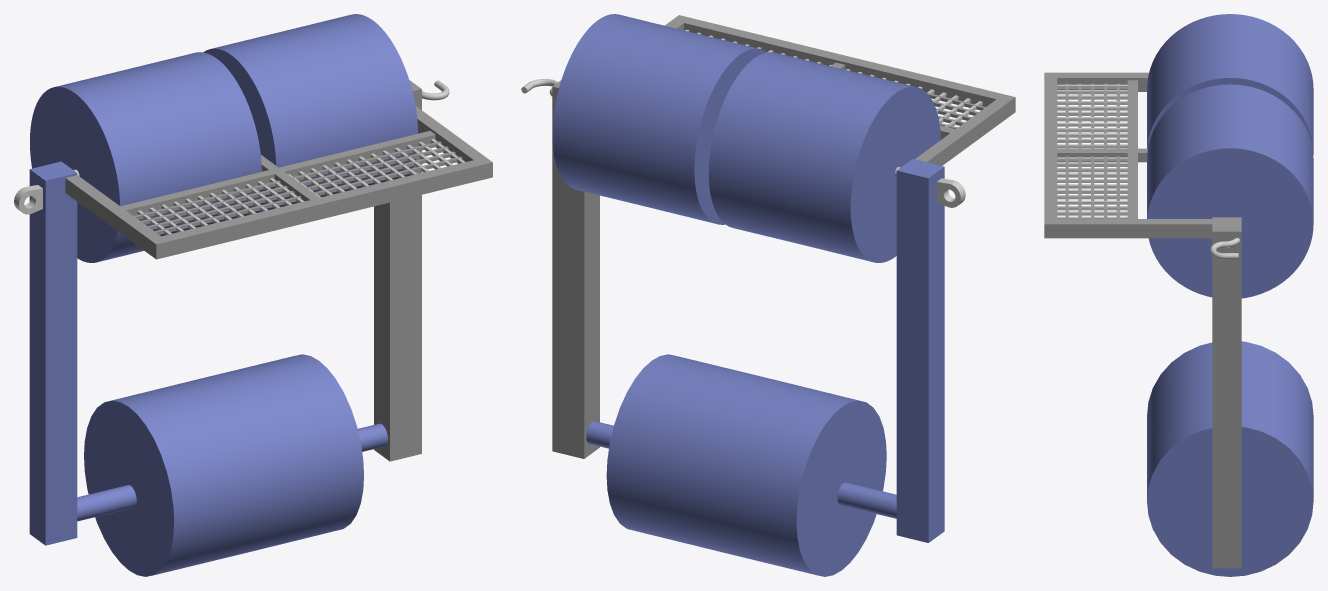
Rendered from Prohibitor.gltf.
The picture shows the model from 3 angles, left to right: view 1: azimuth 30°, elevation 25°; view 2: azimuth 150°, elevation 25°; view 3: azimuth 270°, elevation 25°; orthographic projection. The views are drawn at different scales.
Parts seen in each view (by area): view 1: Body40, Body34, Body35, Body1, Body37, Body41; view 2: Body40, Body34, Body35, Body37, Body1, Body41; view 3: Body40, Body35, Body34, Body1, Body37, Body42.
Part boxes in pixels (box(x1,y1,x2,y2)): Body40: box(29, 161, 387, 576); Body34: box(30, 52, 261, 262); Body35: box(203, 14, 417, 212); Body1: box(65, 106, 492, 259); Body37: box(374, 80, 421, 461); Body41: box(14, 185, 42, 214); Body40: box(586, 159, 944, 576); Body34: box(708, 52, 940, 262); Body35: box(552, 14, 767, 224); Body37: box(552, 80, 599, 458); Body1: box(665, 15, 1015, 165); Body41: box(937, 178, 965, 207); Body40: box(1147, 341, 1313, 576); Body35: box(1147, 84, 1313, 298); Body34: box(1147, 14, 1313, 154); Body1: box(1044, 72, 1212, 238); Body37: box(1212, 217, 1241, 568); Body42: box(1209, 238, 1240, 259).
Bounding box in the file's own units: 360 × 390 × 210.
